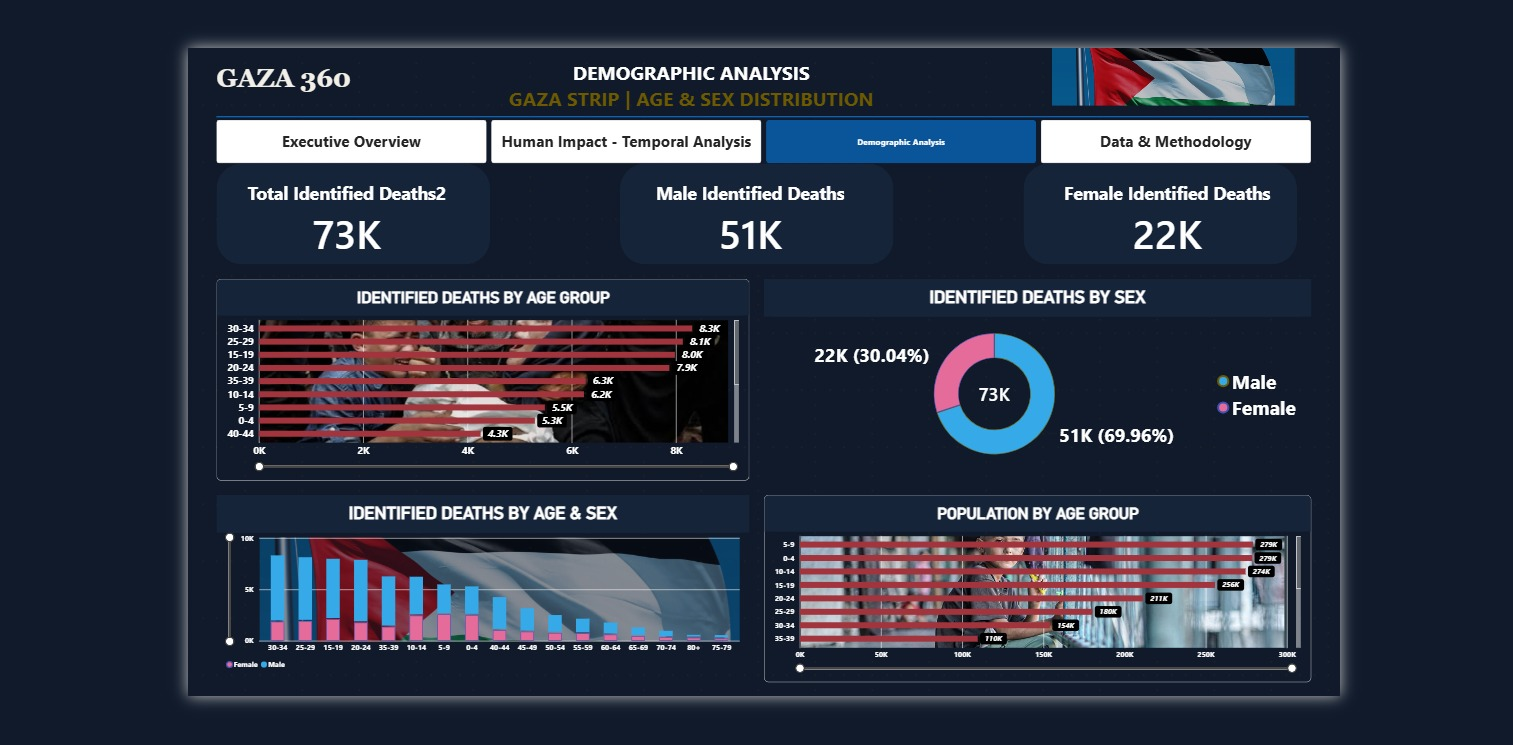

What the dashboard file says about the page in this screenshot:
{"tool":"powerbi","page":{"name":"Demographic Analysis","canvas":[1920,1080],"ordinal":2},"visuals":[{"type":"textbox","box":[48,24,268.4,56.1],"z":0},{"type":"shape","box":[48,96,1820.1,39],"z":1000},{"type":"image","box":[1440,0,408,96],"z":2000},{"type":"shape","box":[1392,192,456,168],"z":3000},{"type":"shape","box":[720,192,456,168],"z":4000},{"type":"shape","box":[48,192,456,168],"z":5000},{"type":"textbox","box":[456,0,768,120],"z":6000},{"type":"clusteredBarChart","title":"IDENTIFIED DEATHS BY AGE GROUP","fields":{"Category":["gold dim_age.age_band"],"Y":["gold fact_population.Total Identified Deaths2"]},"box":[48,384,888,336],"z":7000},{"type":"donutChart","title":"IDENTIFIED DEATHS BY SEX","fields":{"Category":["gold dim_sex.sex"],"Y":["gold fact_population.Total Identified Deaths2"]},"box":[960,384,912,336],"z":8000},{"type":"columnChart","title":"IDENTIFIED DEATHS BY AGE & SEX","fields":{"Category":["gold dim_age.age_band"],"Series":["gold dim_sex.sex"],"Y":["gold fact_population.Total Identified Deaths2"]},"box":[48,744,888,312],"z":9000},{"type":"clusteredBarChart","title":"POPULATION BY AGE GROUP","fields":{"Category":["gold dim_age.age_band"],"Y":["Sum(gold fact_population.population)"]},"box":[960,744,912,312],"z":10000},{"type":"cardVisual","fields":{"Data":["gold fact_population.Total Identified Deaths2"]},"box":[72,216,384,144],"z":11000},{"type":"cardVisual","fields":{"Data":["gold fact_population.Male Identified Deaths"]},"box":[744,216,384,144],"z":12000},{"type":"cardVisual","fields":{"Data":["gold fact_population.Female Identified Deaths"]},"box":[1440,216,384,144],"z":13000},{"type":"pageNavigator","box":[48,120,1824,72],"z":14000}]}

Visuals, with their boxes on the page's 1920x1080 design canvas (x1, y1, x2, y2). These are canvas units, not pixel positions in the 1513x745 screenshot, which may show the page scaled, cropped or inside an application window:
textbox: BBox(48, 24, 316, 80)
shape: BBox(48, 96, 1868, 135)
image: BBox(1440, 0, 1848, 96)
shape: BBox(1392, 192, 1848, 360)
shape: BBox(720, 192, 1176, 360)
shape: BBox(48, 192, 504, 360)
textbox: BBox(456, 0, 1224, 120)
"IDENTIFIED DEATHS BY AGE GROUP" clusteredBarChart: BBox(48, 384, 936, 720)
"IDENTIFIED DEATHS BY SEX" donutChart: BBox(960, 384, 1872, 720)
"IDENTIFIED DEATHS BY AGE & SEX" columnChart: BBox(48, 744, 936, 1056)
"POPULATION BY AGE GROUP" clusteredBarChart: BBox(960, 744, 1872, 1056)
cardVisual - gold fact_population.Total Identified Deaths2: BBox(72, 216, 456, 360)
cardVisual - gold fact_population.Male Identified Deaths: BBox(744, 216, 1128, 360)
cardVisual - gold fact_population.Female Identified Deaths: BBox(1440, 216, 1824, 360)
pageNavigator: BBox(48, 120, 1872, 192)
